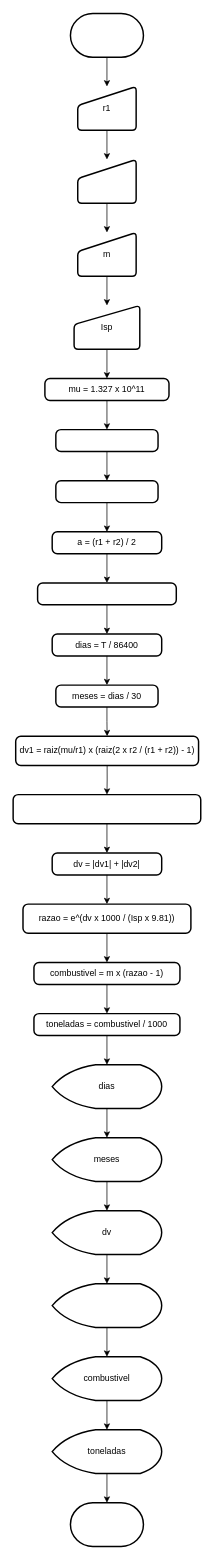
Some shapes in this 214 by 1559 pixel diagram are drawn without their labels. The box of each missing label's shape, as (x1, y1, x2, y2) in pixels:
dv2 = raiz(mu/r2) x (1 - raiz(2 x r1 / (r1 + r2))): (12, 794, 201, 824)
fim: (69, 1502, 144, 1547)
inicio: (69, 12, 144, 58)
r1 = r1 x 10^6: (55, 429, 158, 452)
r2: (77, 158, 137, 204)
r2 = r2 x 10^6: (55, 480, 158, 503)
razao: (51, 1283, 162, 1328)
T = pi x raiz(a^3 / mu): (36, 582, 177, 605)
